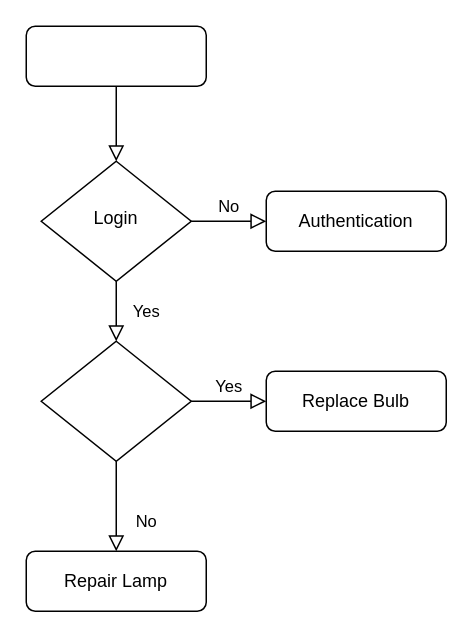
Some shapes in this 473 by 638 pixel diagram are drawn without their labels. The centre of each missing label's shape, as x and y in pixels:
Bulb burned out?: pixel 115 400
User: pixel 115 55
